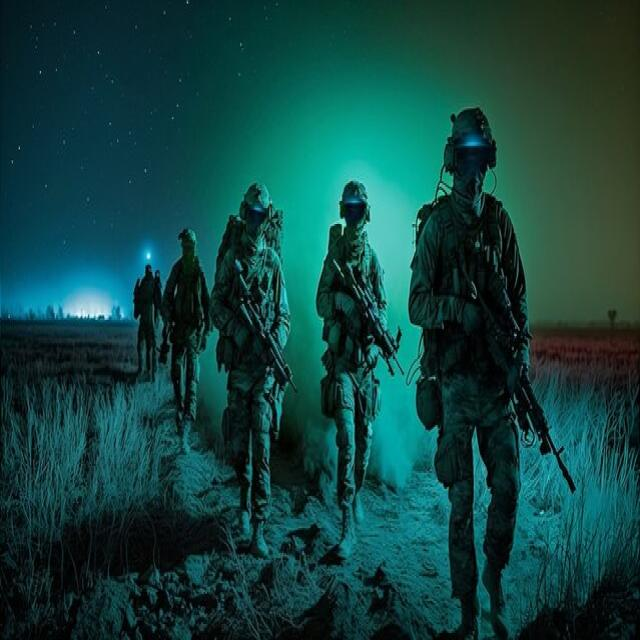Forest: (0, 0, 640, 640)
Militant: (403, 92, 561, 638), (207, 157, 302, 560), (317, 154, 394, 572), (166, 223, 214, 456), (130, 250, 170, 384)
